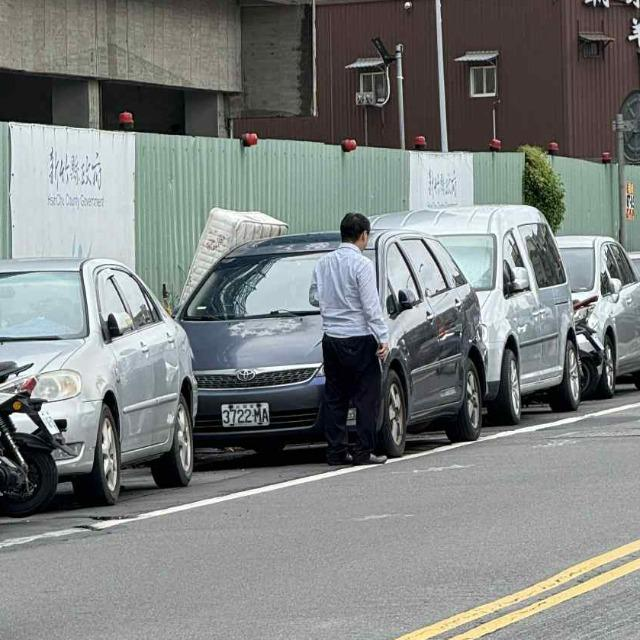NoVest: (315, 247, 381, 347)
